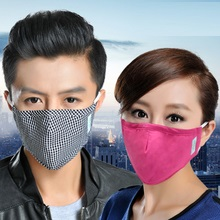face_mask: (14, 53, 95, 165), (123, 75, 202, 178)
